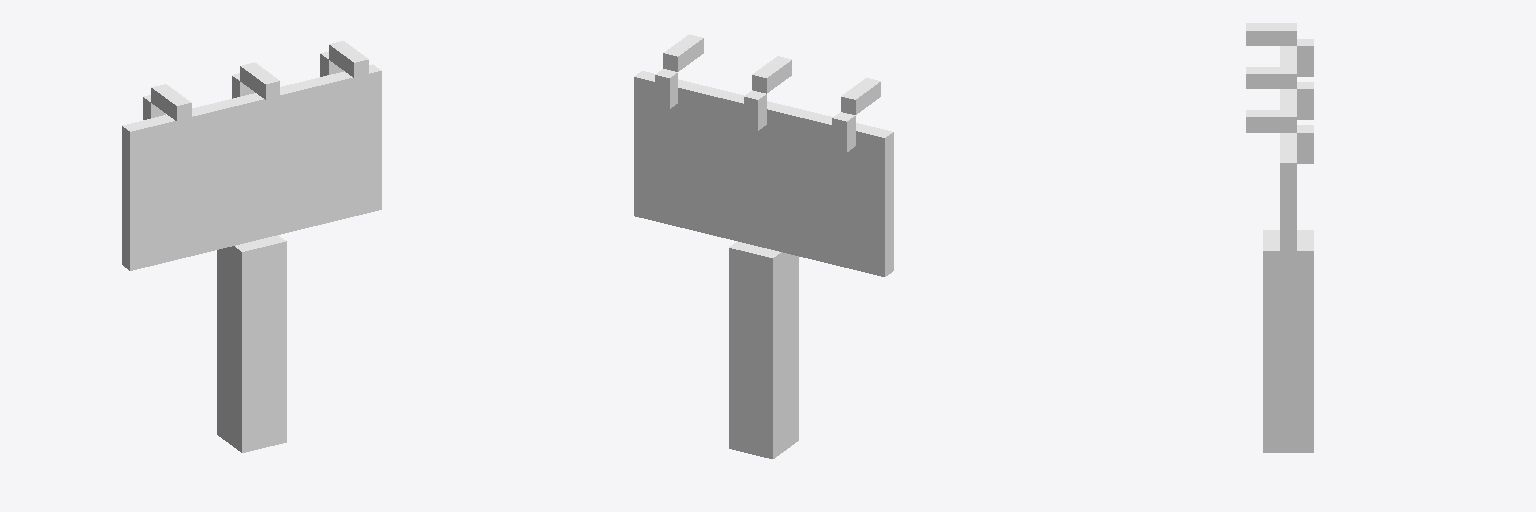
File: placa.obj
The picture shows the model from 3 angles: view 1: azimuth 30°, elevation 25°; view 2: azimuth 150°, elevation 25°; view 3: azimuth 270°, elevation 25°; orthographic projection.
Parts seen in each view (by area): view 1: object 1; view 2: object 1; view 3: object 1.
Part boxes in pixels (left/top/right/bottom): object 1: left=122, top=41, right=381, bottom=452; object 1: left=634, top=34, right=893, bottom=458; object 1: left=1246, top=23, right=1313, bottom=452.
Bounding box in the file's own units: 1.7 × 2.4 × 0.4.